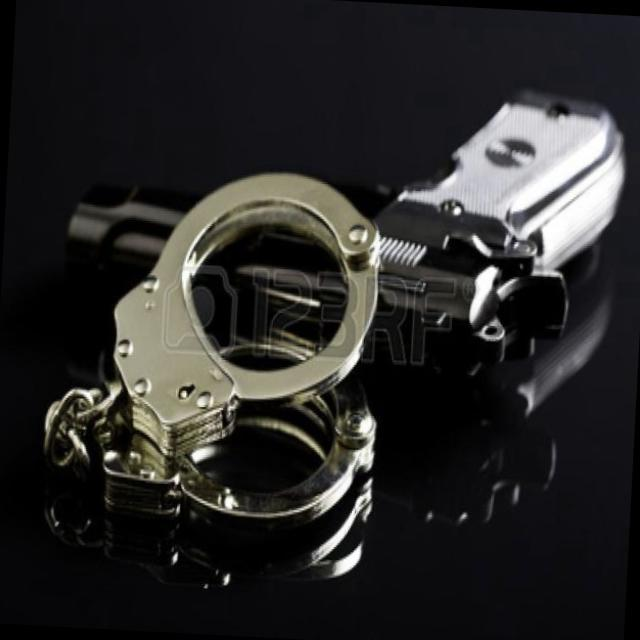weapon: (62, 61, 630, 366)
